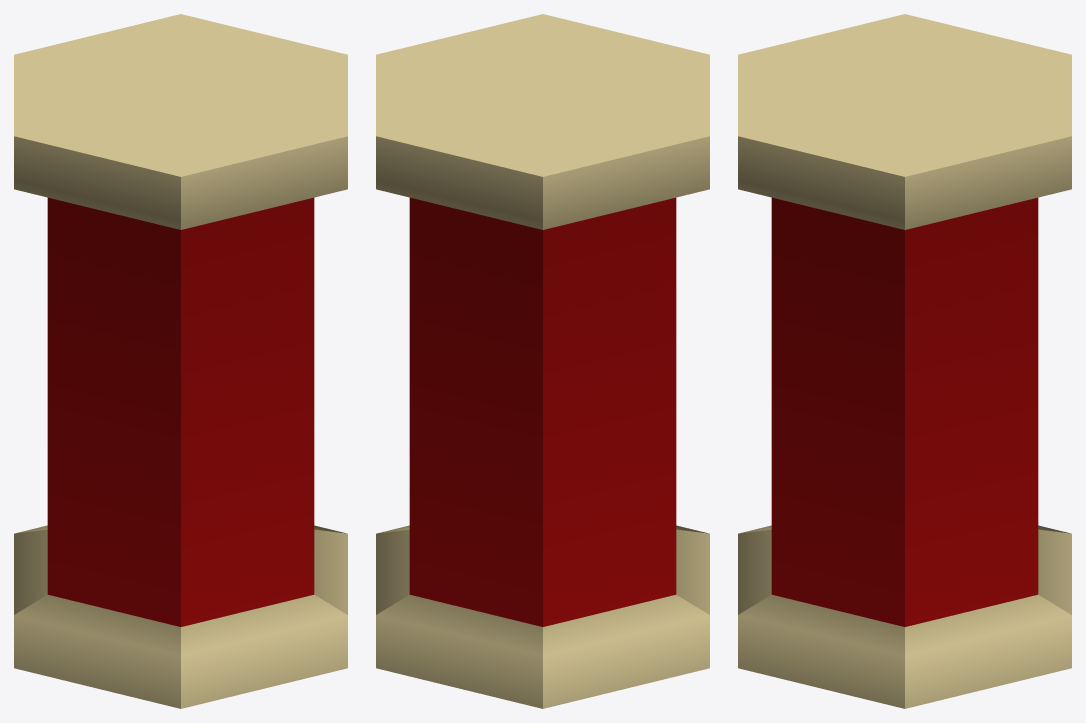
File: String.fbx
The picture shows the model from 3 angles, left to right: view 1: azimuth 30°, elevation 25°; view 2: azimuth 150°, elevation 25°; view 3: azimuth 270°, elevation 25°; orthographic projection.
Visible parts, largest first — view 1: pCylinder1; view 2: pCylinder1; view 3: pCylinder1.
Boxes of the visible parts, left/top/right/bottom form: pCylinder1: left=14, top=14, right=347, bottom=708; pCylinder1: left=376, top=14, right=709, bottom=708; pCylinder1: left=738, top=14, right=1071, bottom=708.
Size of the model in its own units: 6.57 by 10 by 5.69.
